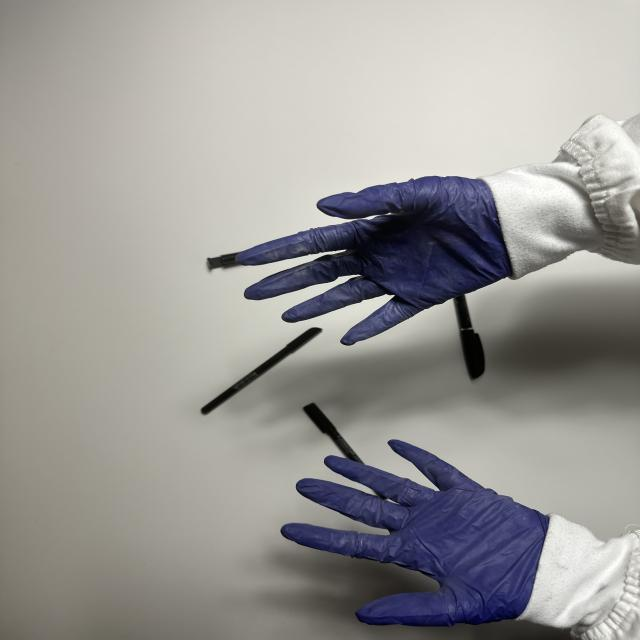gloves_contaminated: (281, 440, 550, 626), (236, 176, 512, 345)
